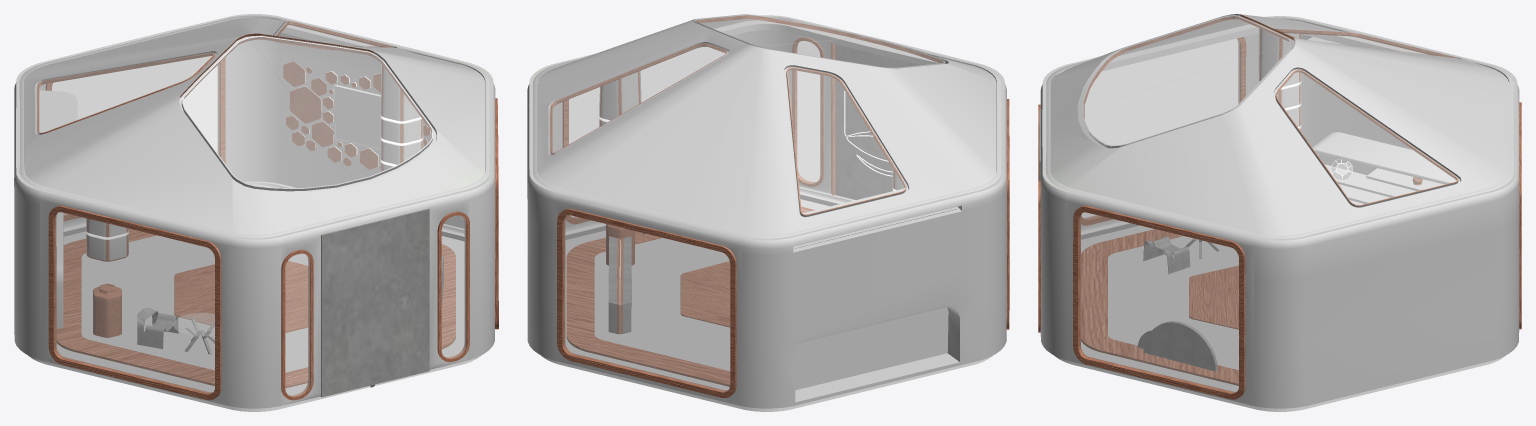
File: Alvea.glb
3 renders of one model, left to right at view 1: azimuth 30°, elevation 25°; view 2: azimuth 150°, elevation 25°; view 3: azimuth 270°, elevation 25°, orthographic.
Parts seen in each view (by area): view 1: PRINCIPAL_Estr, Techo, Techo_VentanaFrontal, EP_VentLados, Suelo, TablaFrontal, Techo_VentanasPeq, VentanasEstrechas, VentanaTrasera, MarcoLadoII, ColumnaIzq, SueloTierra (+10 smaller); view 2: PRINCIPAL_Estr, Techo, VentanaTrasera, Suelo, Techo_VentanasPeq, Techo_VentanaFrontal, TablaFrontal, MarcoVentTras, EP_VentLados, BajoColumnaII_Mesa, VentanasEstrechas, ColumnaIzq (+4 smaller); view 3: PRINCIPAL_Estr, Techo, EP_VentLados, Techo_VentanaFrontal, Suelo, Techo_VentanasPeq, MarcoLadoI, EsculturaCircularG, ColumnaIzq, SueloTierra, Silla2, MarcoLadoII (+2 smaller).
Part boxes in pixels (x1,y1,x2,y2): PRINCIPAL_Estr: (14,15,495,411); Techo: (16,14,493,239); Techo_VentanaFrontal: (182,35,433,188); EP_VentLados: (55,212,214,393); Suelo: (56,228,455,387); TablaFrontal: (321,208,429,397); Techo_VentanasPeq: (37,20,394,132); VentanasEstrechas: (285,215,466,396); VentanaTrasera: (52,56,218,214); MarcoLadoII: (48,205,221,400); ColumnaIzq: (86,63,423,261); SueloTierra: (56,231,464,395); PRINCIPAL_Estr: (527,17,1006,411); Techo: (529,14,1004,240); VentanaTrasera: (564,215,729,390); Suelo: (566,206,814,386); Techo_VentanasPeq: (550,43,906,214); Techo_VentanaFrontal: (695,14,944,67); TablaFrontal: (835,44,920,199); MarcoVentTras: (557,208,736,397); EP_VentLados: (569,47,724,217); BajoColumnaII_Mesa: (606,224,634,333); VentanasEstrechas: (797,41,819,182); ColumnaIzq: (599,71,904,190); PRINCIPAL_Estr: (1040,17,1519,411); Techo: (1042,14,1517,240); EP_VentLados: (1080,39,1239,392); Techo_VentanaFrontal: (1082,15,1291,146); Suelo: (1081,229,1238,385); Techo_VentanasPeq: (1276,28,1458,205); MarcoLadoI: (1073,205,1245,399); EsculturaCircularG: (1144,321,1217,371); ColumnaIzq: (1258,28,1301,131); SueloTierra: (1081,225,1238,391); Silla2: (1143,236,1190,273); MarcoLadoII: (1081,37,1246,225).
Bounding box in the file's own units: 12.57 × 6.78 × 11.37.
3 materials, 1 textured.
